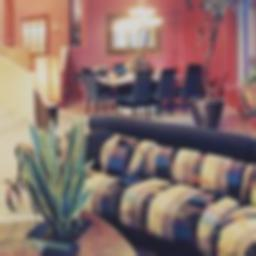Matera: (180, 0, 247, 126)
